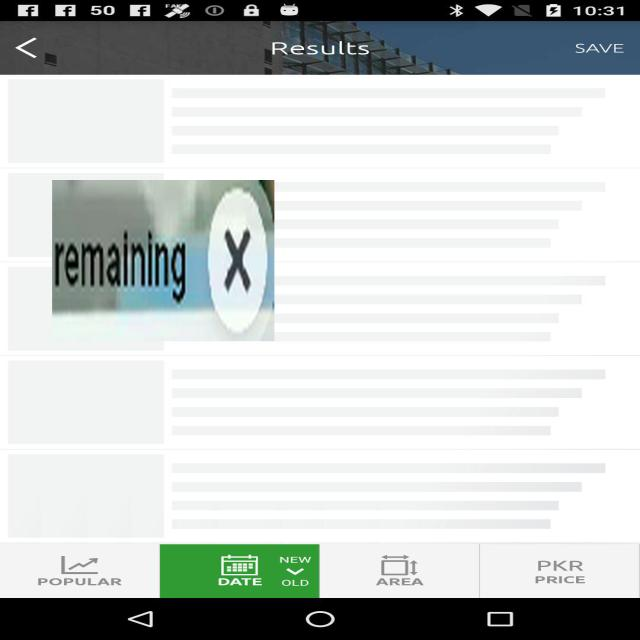misdirection: (53, 180, 274, 341)
